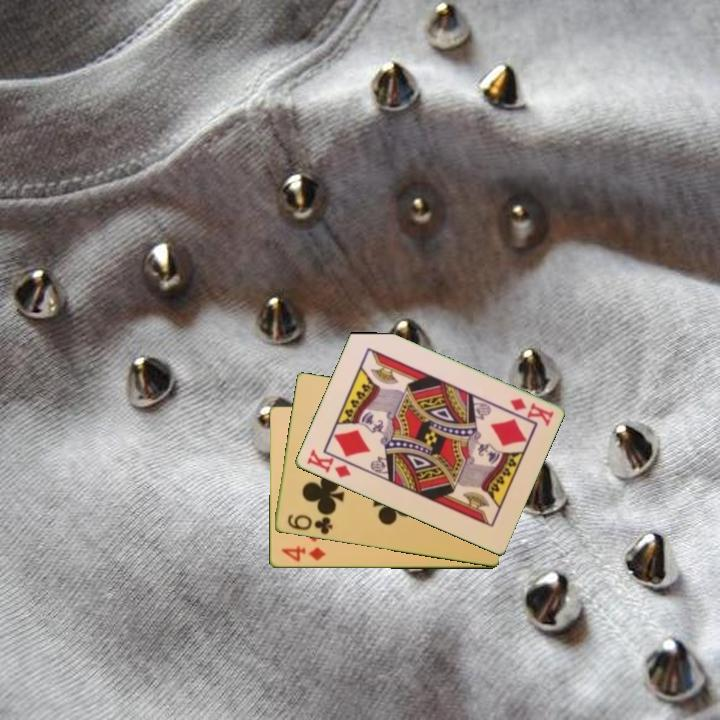4d: (278, 543, 328, 564)
6c: (283, 511, 335, 538)
Kd: (303, 446, 354, 481), (506, 394, 556, 429)
